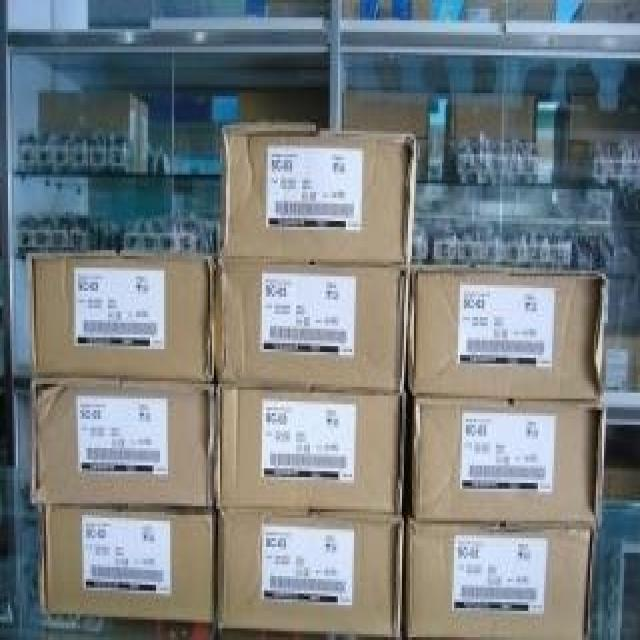box: (220, 125, 418, 262), (408, 265, 606, 401), (214, 259, 410, 393), (412, 396, 606, 527), (214, 387, 408, 515), (30, 375, 214, 509), (28, 250, 214, 381), (216, 512, 404, 637), (404, 518, 596, 640), (40, 506, 216, 625)
